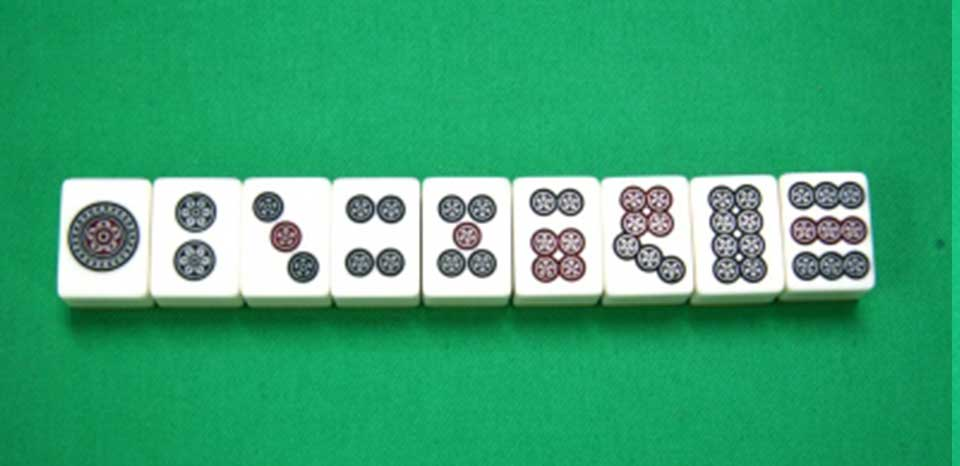pin_1: (59, 178, 147, 301)
pin_2: (152, 179, 234, 306)
pin_3: (238, 174, 329, 308)
pin_4: (329, 178, 420, 304)
pin_5: (420, 178, 516, 308)
pin_6: (509, 176, 606, 306)
pin_7: (602, 176, 688, 303)
pin_8: (688, 178, 782, 303)
pin_9: (779, 176, 875, 294)
